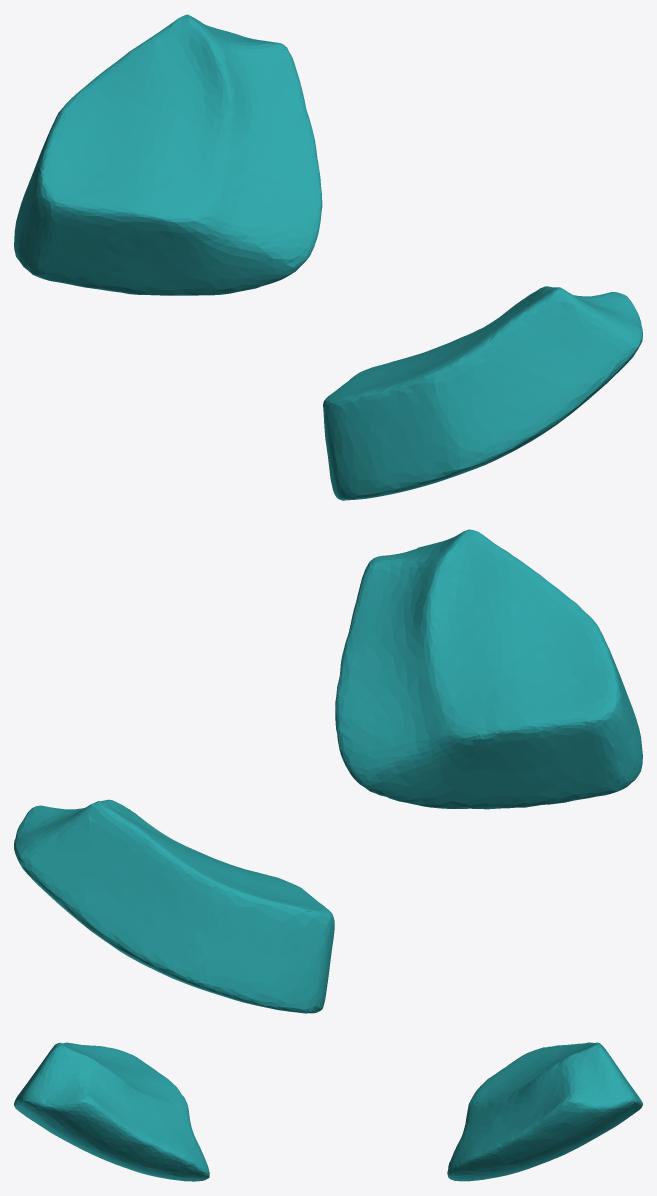
3 views of the same model, one above another, from view 1: azimuth 30°, elevation 25°; view 2: azimuth 150°, elevation 25°; view 3: azimuth 270°, elevation 25° (orthographic). The views are drawn at different scales.
Parts seen in each view (by area): view 1: 385.obj; view 2: 385.obj; view 3: 385.obj.
Part boxes in pixels (x1,y1,x2,y2): 385.obj: (14, 14, 642, 500); 385.obj: (14, 529, 642, 1013); 385.obj: (14, 1042, 642, 1181).
Size of the model in its own units: 2667 by 1878 by 7221.
